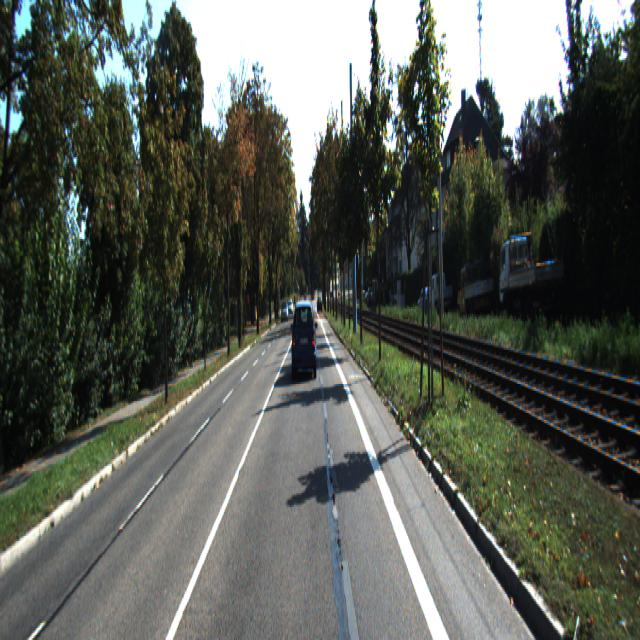Car: (498, 225, 564, 323), (457, 261, 495, 323), (291, 298, 317, 381), (429, 272, 453, 315), (418, 285, 436, 314)
